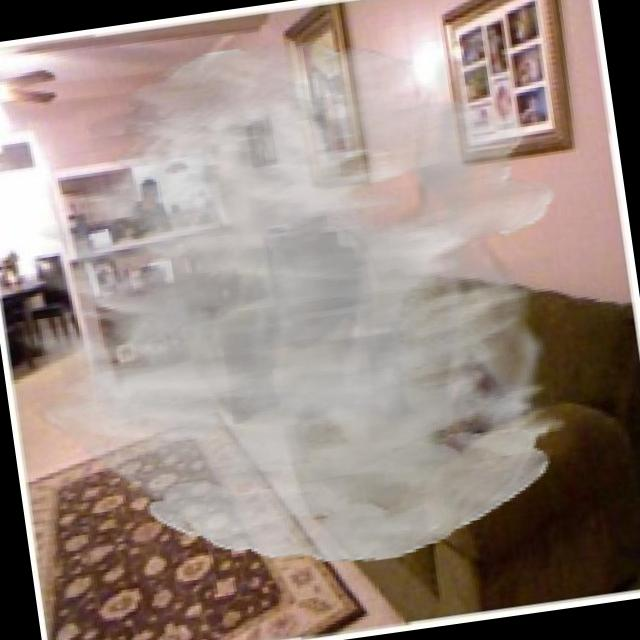Smoke: (0, 5, 603, 605)
